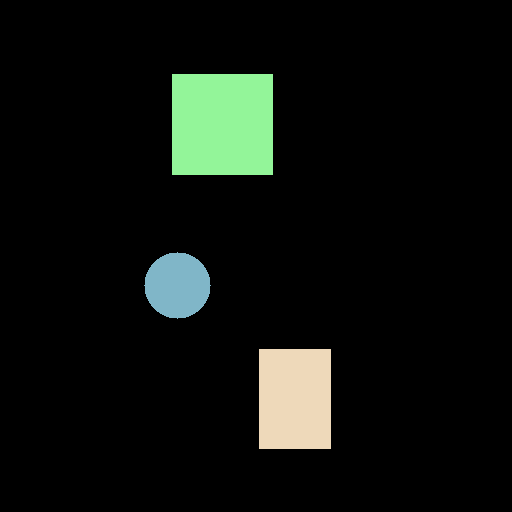circle: (144, 252, 210, 318)
rectangle: (259, 349, 330, 448)
square: (172, 74, 272, 174)
